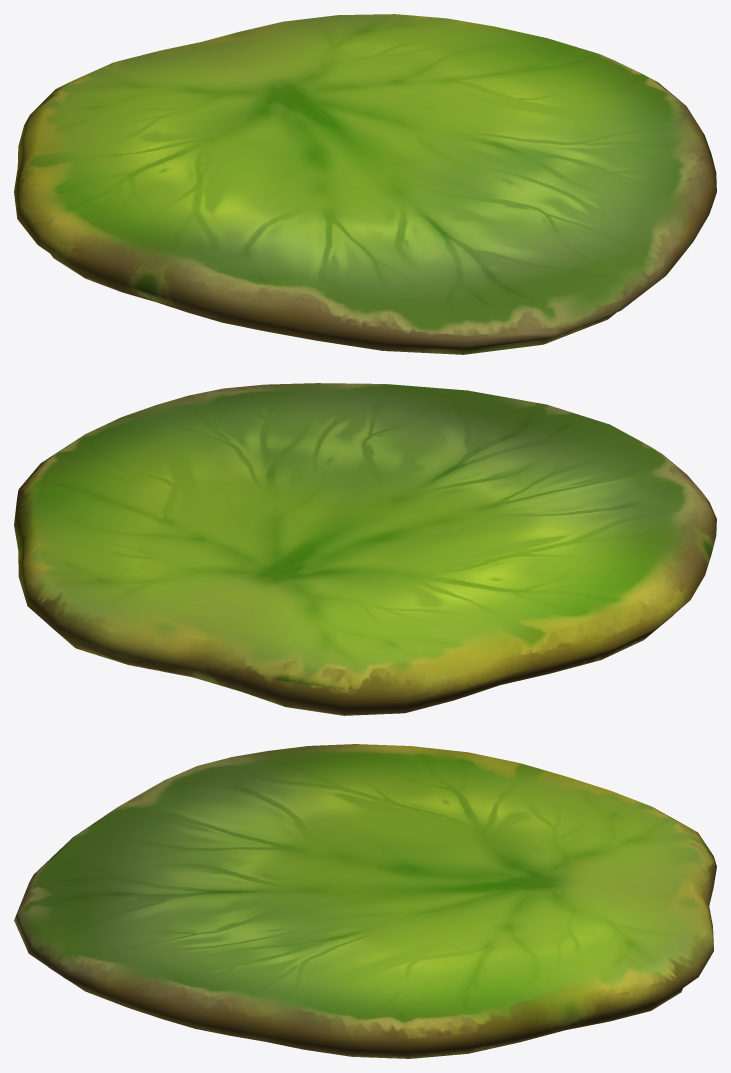
File: LeafPlatform_leaf.fbx
3 renders of one model, top to bottom at view 1: azimuth 30°, elevation 25°; view 2: azimuth 150°, elevation 25°; view 3: azimuth 270°, elevation 25°, orthographic. The views are drawn at different scales.
Visible parts, largest first — view 1: Object008; view 2: Object008; view 3: Object008.
Part boxes in pixels (<box>): Object008: <box>14,14,716,354</box>; Object008: <box>14,383,716,715</box>; Object008: <box>14,744,716,1058</box>.
Size of the model in its own units: 7.2 by 0.6841 by 7.3.
